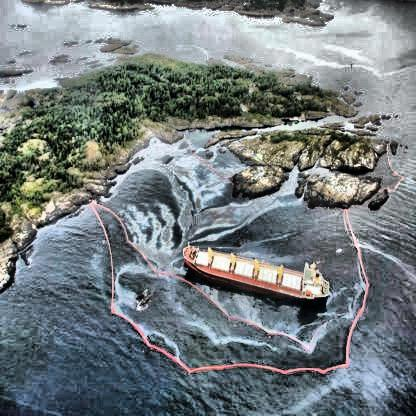sheen: (104, 132, 304, 274)
